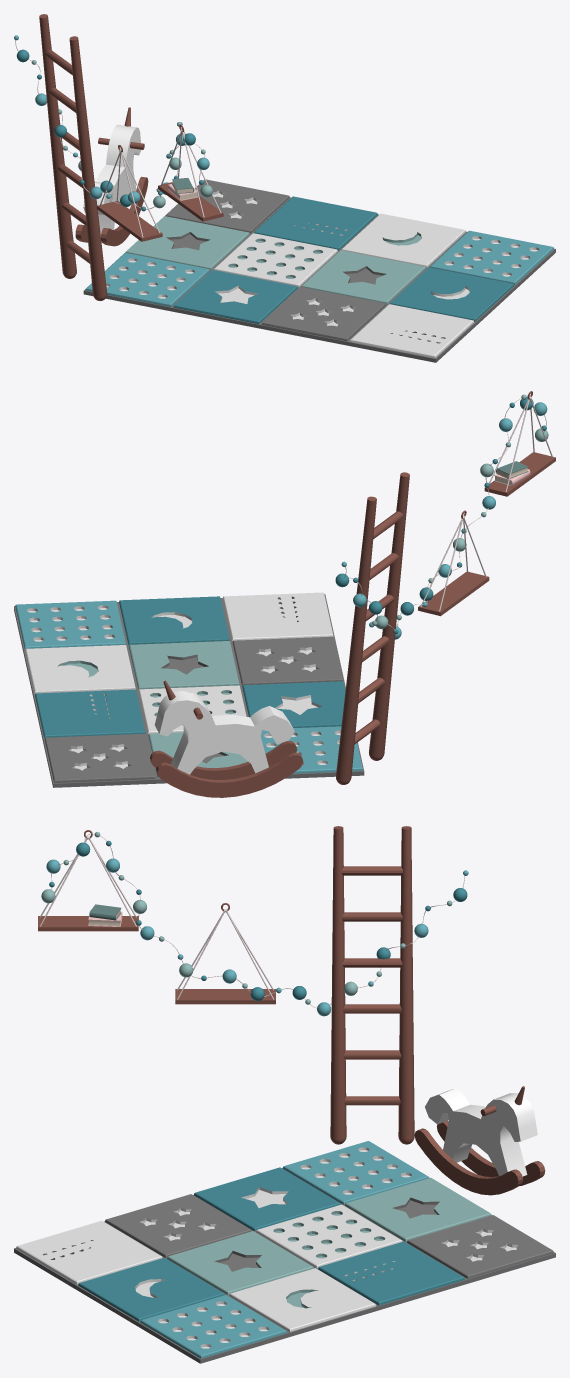
Rendered from Furn5_playzone_color2.fbx.
3 renders of one model, top to bottom at view 1: azimuth 30°, elevation 25°; view 2: azimuth 150°, elevation 25°; view 3: azimuth 270°, elevation 25°, orthographic. The views are drawn at different scales.
Parts seen in each view (by area): view 1: Плоскость.033; view 2: Плоскость.033; view 3: Плоскость.033.
Boxes of the visible parts, x1,y1,x2,y2 form: Плоскость.033: (14, 14, 555, 362); Плоскость.033: (14, 391, 555, 797); Плоскость.033: (14, 826, 555, 1363).
Bounding box in the file's own units: 726 × 444 × 713.
